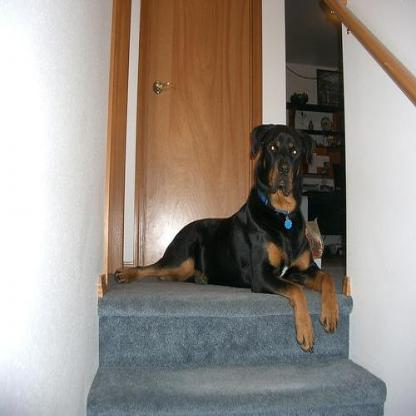Rottweiler: (116, 123, 338, 351)
